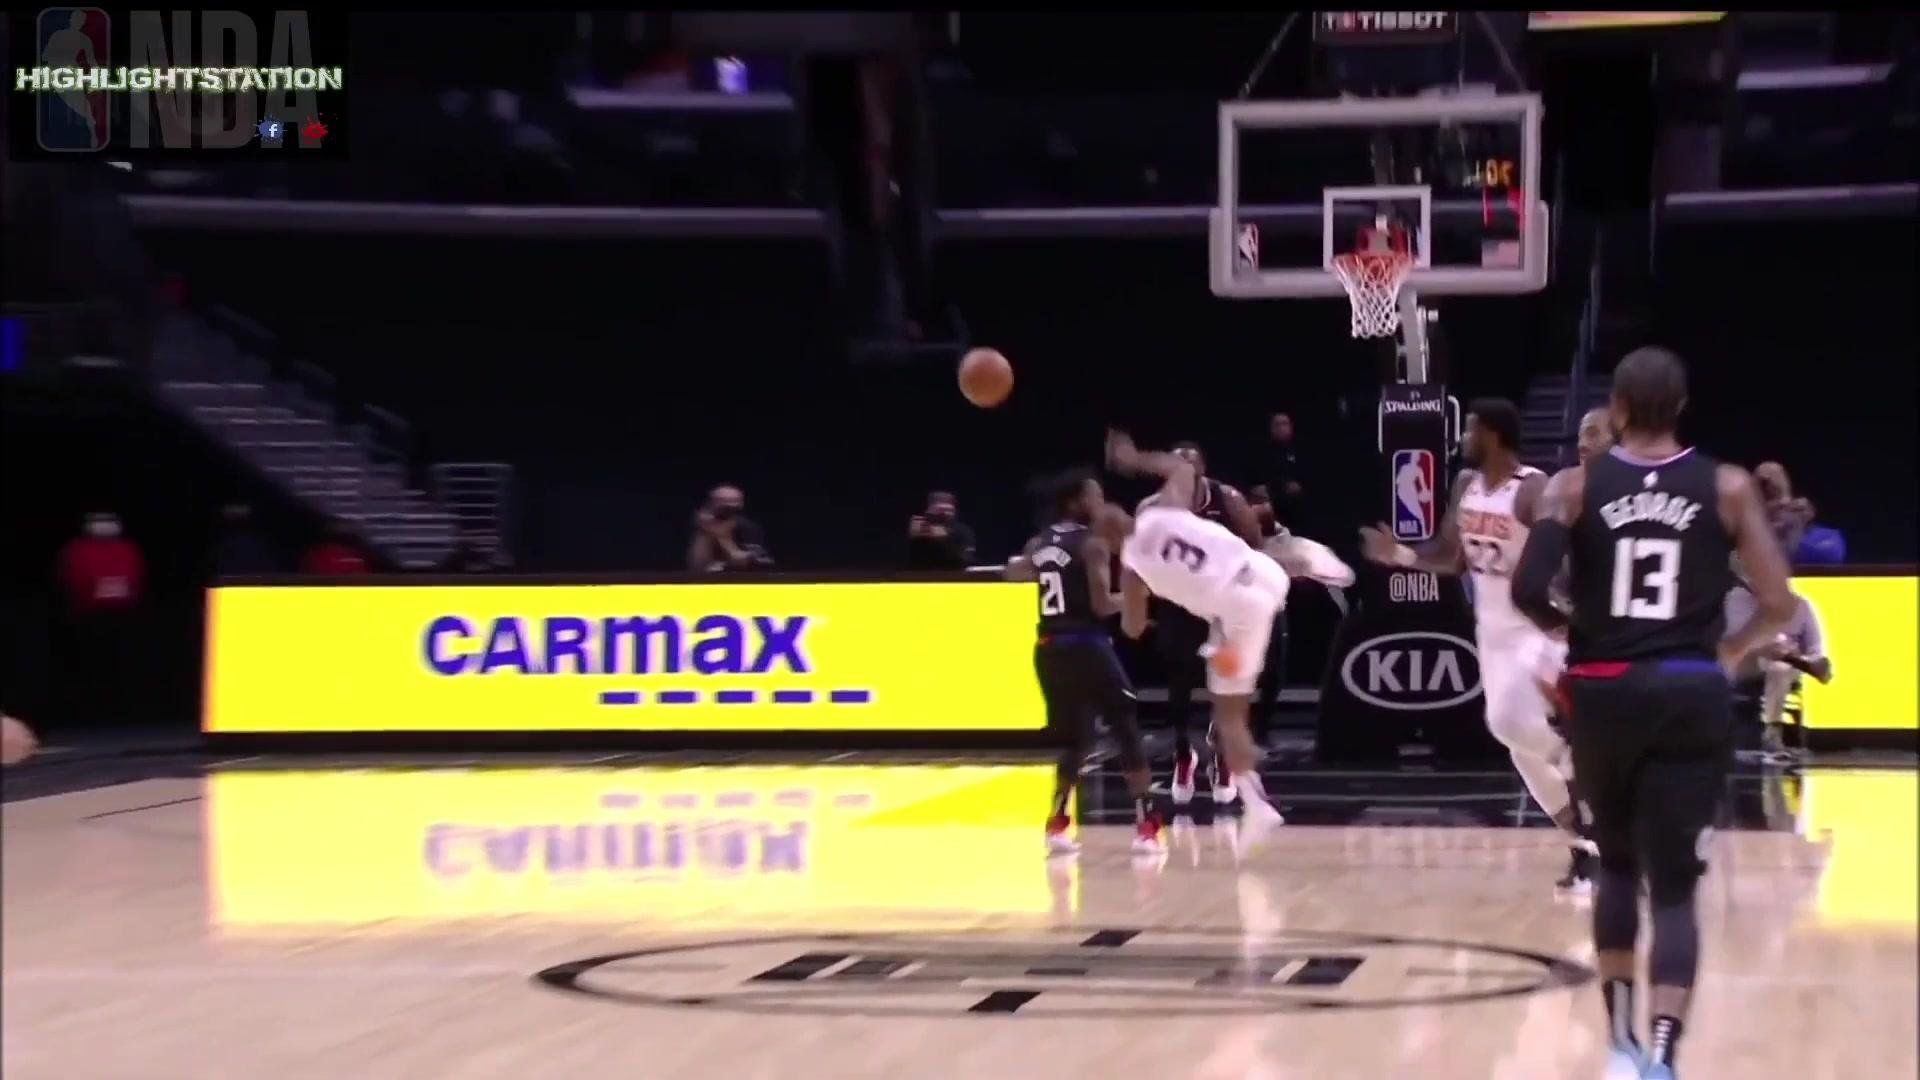foul: (985, 462, 1309, 855)
